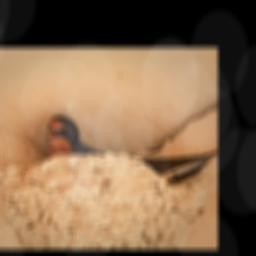Swallow: (44, 114, 217, 192)
